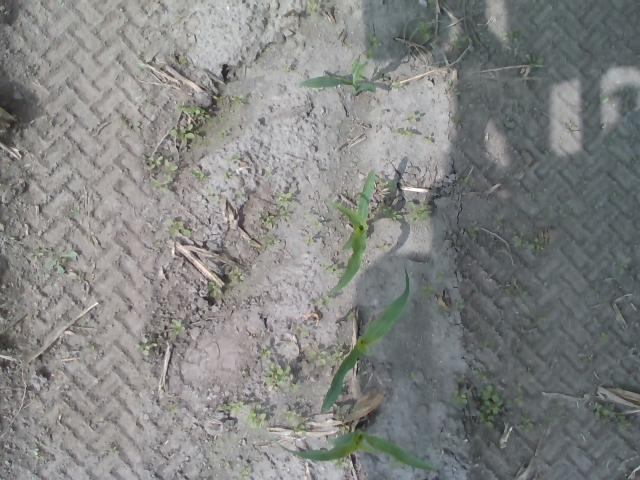Maize: (320, 266, 410, 420), (274, 426, 435, 472), (329, 169, 376, 298), (300, 61, 378, 96)
Weeds: (452, 370, 502, 430), (259, 343, 297, 391), (215, 400, 268, 431), (593, 402, 640, 434), (505, 382, 533, 434), (34, 247, 80, 276), (511, 232, 544, 255), (307, 348, 344, 367), (406, 200, 433, 224), (273, 192, 294, 220), (146, 154, 178, 172), (284, 409, 307, 432), (166, 220, 191, 240), (168, 122, 195, 140), (380, 202, 404, 222), (500, 29, 528, 44), (415, 21, 434, 43), (365, 31, 378, 59), (302, 212, 321, 230), (169, 318, 188, 336), (464, 224, 482, 243), (523, 52, 546, 66), (182, 104, 206, 117), (219, 95, 245, 106), (419, 284, 433, 304), (228, 269, 246, 284), (478, 338, 497, 352), (208, 281, 222, 300), (134, 340, 156, 352), (261, 214, 277, 230), (332, 456, 350, 470), (380, 178, 398, 192), (93, 415, 111, 429), (153, 178, 172, 191), (216, 127, 232, 142), (305, 0, 322, 14), (451, 36, 468, 50), (395, 127, 415, 138), (530, 188, 544, 202), (191, 169, 208, 180), (236, 466, 248, 480), (582, 354, 596, 366), (302, 237, 316, 249), (404, 370, 418, 382), (403, 112, 418, 123), (519, 286, 531, 299), (322, 264, 336, 274), (263, 237, 274, 249), (454, 302, 465, 314), (390, 81, 400, 94), (494, 214, 504, 227), (598, 94, 610, 104), (464, 176, 476, 186), (230, 154, 242, 164), (106, 446, 119, 455), (178, 56, 188, 66), (424, 135, 433, 145), (86, 343, 95, 352), (606, 138, 616, 146), (340, 424, 350, 432), (222, 171, 232, 179)
